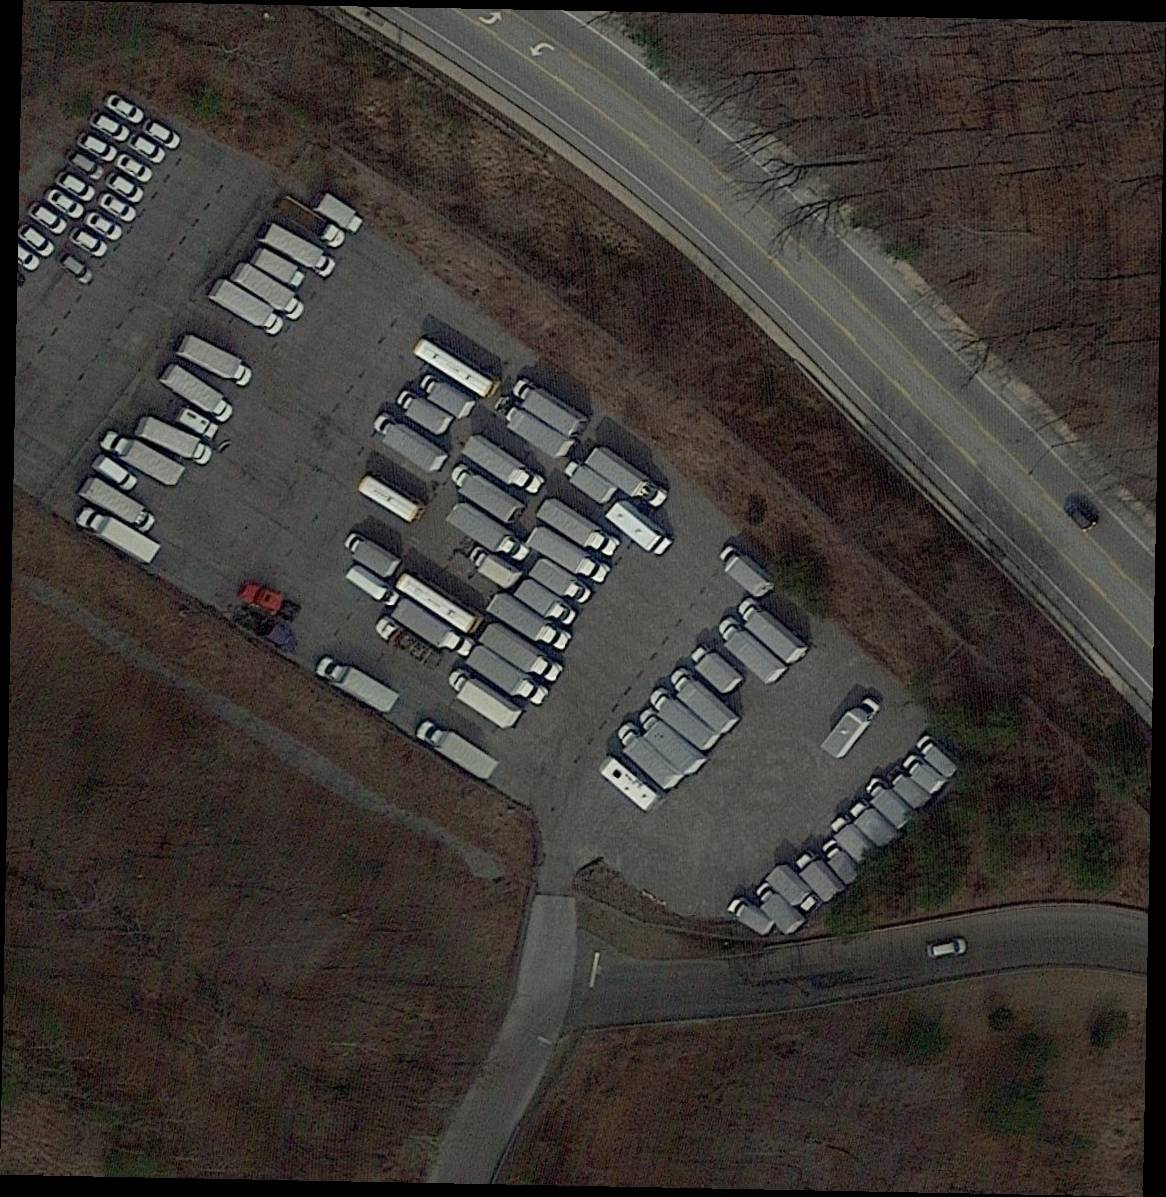large vehicle: (408, 335, 503, 403), (585, 444, 670, 513), (465, 643, 550, 712), (537, 495, 621, 563), (446, 500, 532, 566), (479, 620, 562, 688), (462, 432, 544, 499), (487, 590, 572, 654), (442, 667, 524, 733), (733, 596, 809, 667), (368, 411, 449, 477), (714, 616, 788, 687), (392, 598, 475, 662), (99, 429, 186, 488), (76, 506, 162, 565), (508, 377, 589, 440), (416, 719, 499, 780), (316, 654, 401, 714), (613, 724, 685, 794), (160, 363, 239, 426), (446, 464, 526, 526), (78, 475, 160, 534), (648, 687, 721, 753), (208, 279, 286, 337), (230, 263, 306, 322), (606, 498, 675, 561), (819, 693, 882, 762), (763, 858, 827, 924), (593, 753, 663, 813), (276, 195, 348, 251), (177, 335, 253, 388), (136, 415, 214, 466), (714, 544, 777, 601), (791, 848, 848, 907), (862, 773, 918, 834), (749, 882, 809, 937), (515, 578, 577, 629), (530, 558, 593, 608), (687, 642, 743, 697), (880, 762, 935, 817), (846, 796, 900, 853), (417, 373, 477, 423), (394, 389, 453, 438), (343, 532, 402, 580), (829, 812, 879, 868), (724, 892, 780, 941), (562, 457, 618, 506), (913, 730, 965, 780), (345, 564, 401, 609), (467, 546, 522, 591), (312, 192, 366, 236), (251, 246, 306, 289), (901, 751, 949, 798), (818, 837, 862, 886), (176, 408, 220, 440)
small vehicle: (353, 470, 427, 525), (90, 452, 144, 497), (140, 115, 189, 154), (99, 90, 147, 127), (85, 108, 133, 144), (41, 185, 85, 222), (94, 189, 140, 226), (102, 171, 147, 206), (73, 131, 120, 166), (55, 250, 97, 287), (66, 226, 110, 262), (125, 130, 169, 167), (55, 168, 98, 204), (17, 222, 59, 260), (114, 152, 157, 188), (26, 201, 69, 236), (84, 209, 126, 245), (64, 147, 107, 182), (926, 938, 971, 962)
